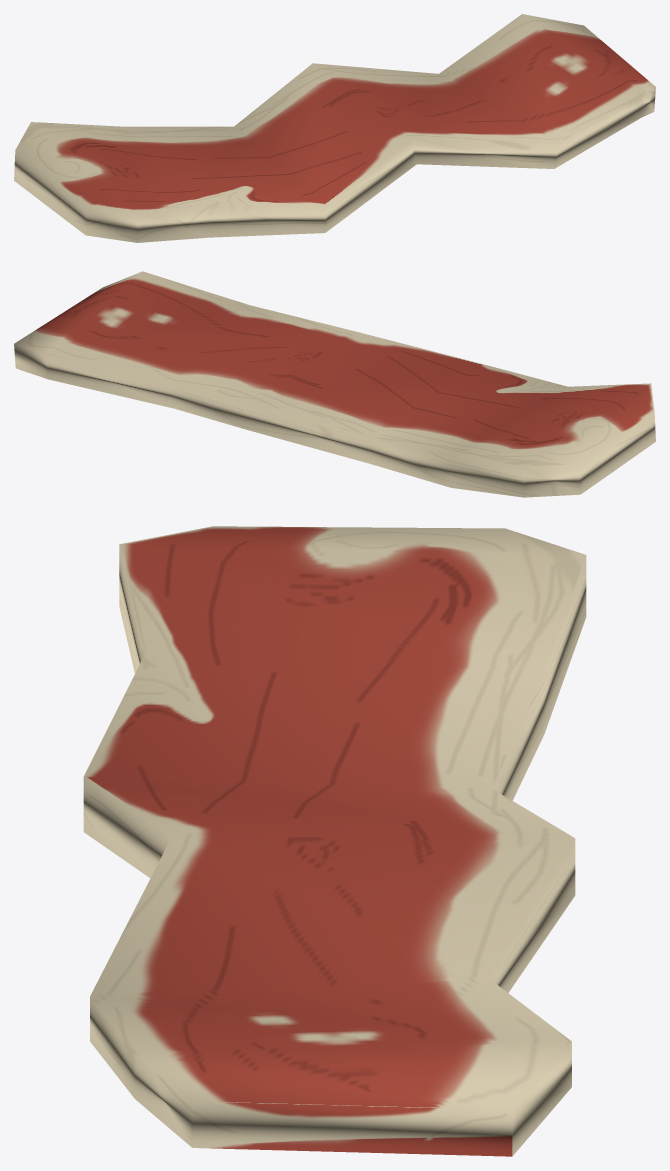
Rendered from bacon_crispy.glb.
3 renders of one model, top to bottom at view 1: azimuth 30°, elevation 25°; view 2: azimuth 150°, elevation 25°; view 3: azimuth 270°, elevation 25°, orthographic. The views are drawn at different scales.
Parts seen in each view (by area): view 1: Cube; view 2: Cube; view 3: Cube.
Boxes of the visible parts, box(x1,y1,x2,y2) form: Cube: box(14, 14, 655, 242); Cube: box(14, 271, 655, 497); Cube: box(83, 526, 586, 1156).
Bounding box in the file's own units: 376 × 36.69 × 144.
1 material, 1 textured.
